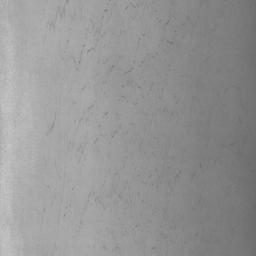Silk spot: (88, 192, 104, 206), (46, 122, 55, 136), (56, 5, 65, 18)
